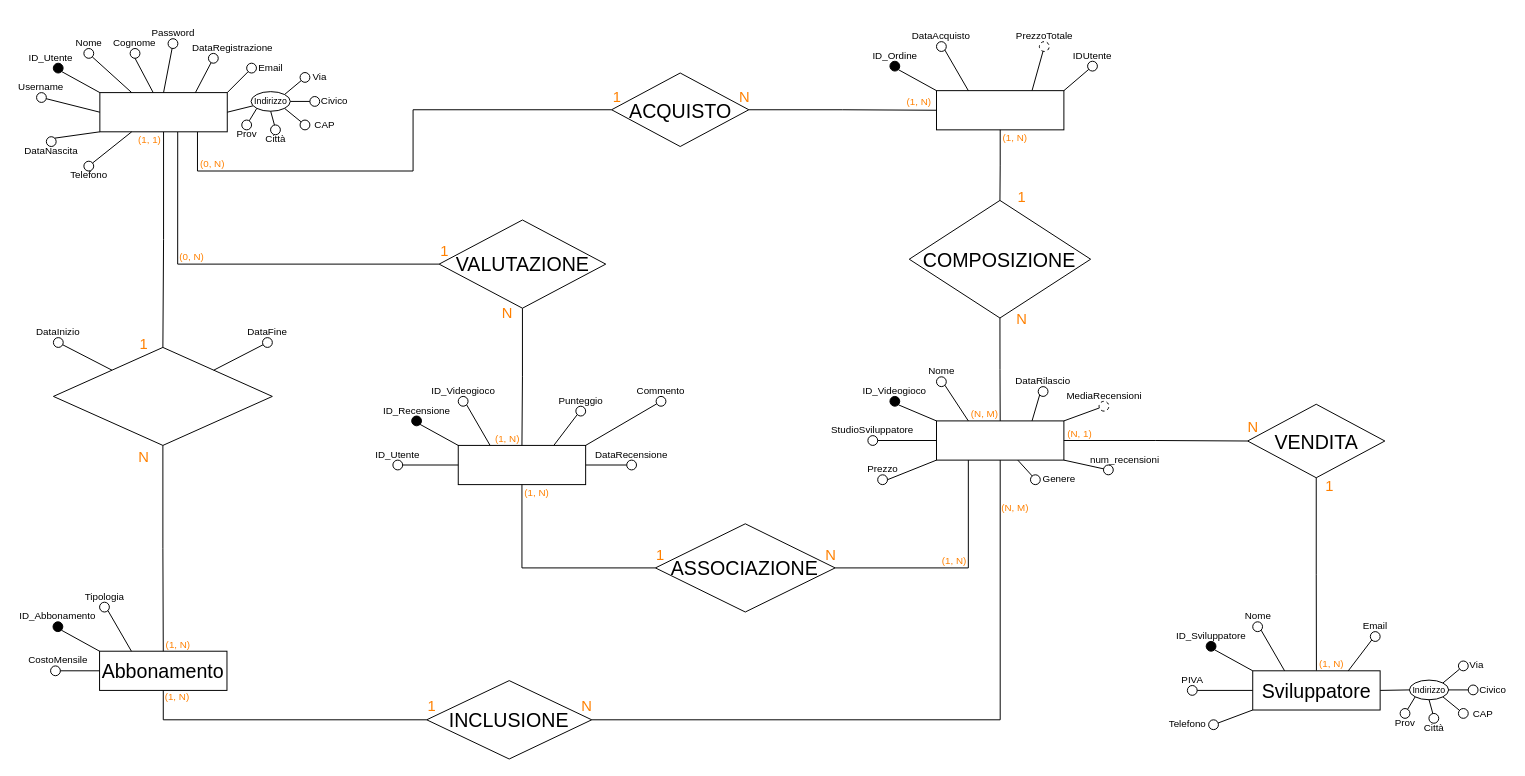
The diagram is 1525 pixels wide and 776 high, and some of its shapes have lost their labels. Here are the shapes that lost their labels. From the top down, the centre of each, then its label:
At [163,112]: "Utente".
At [1000,110]: "Ordine".
At [162,395]: "SOTTOSCRIZIONE".
At [1000,440]: "Videogioco".
At [521,464]: "Recensione".
